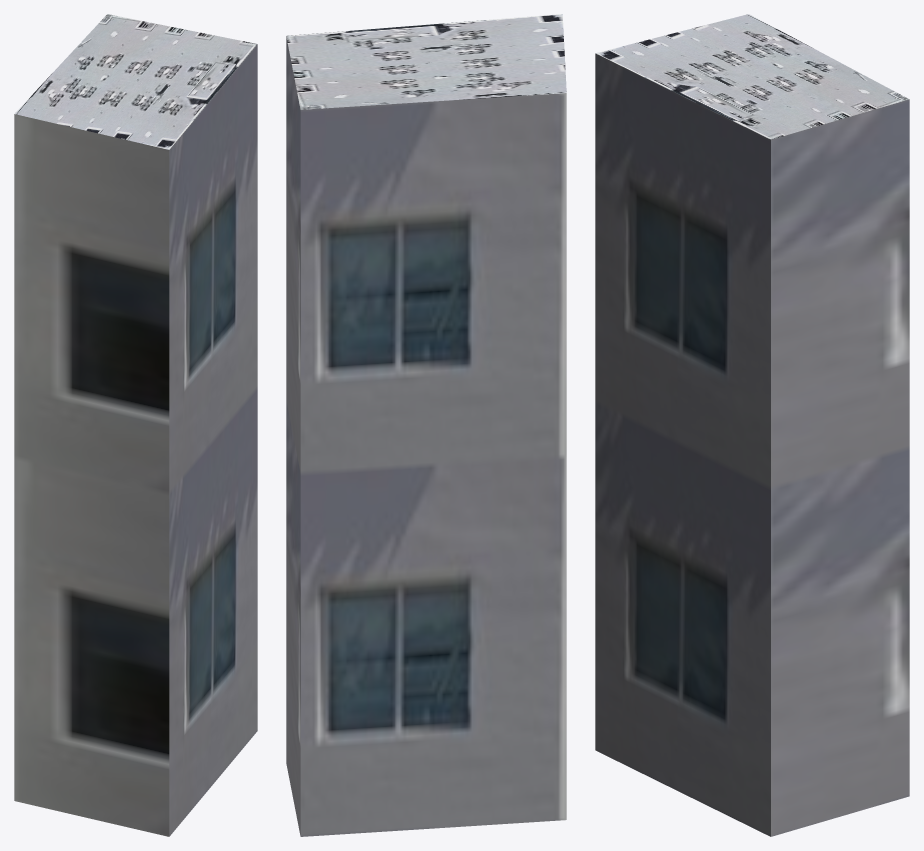
The model's file is ResTex__4755.fbx.
The picture shows the model from 3 angles, left to right: view 1: azimuth 30°, elevation 25°; view 2: azimuth 150°, elevation 25°; view 3: azimuth 270°, elevation 25°; orthographic projection. The views are drawn at different scales.
Parts seen in each view (by area): view 1: CityEngineMaterial_10_m, CityEngineMaterial_m; view 2: CityEngineMaterial_10_m, CityEngineMaterial_m; view 3: CityEngineMaterial_10_m, CityEngineMaterial_m.
Part boxes in pixels (<box>): CityEngineMaterial_10_m: <box>14,44,257,836</box>; CityEngineMaterial_m: <box>15,14,257,149</box>; CityEngineMaterial_10_m: <box>286,37,566,836</box>; CityEngineMaterial_m: <box>286,14,566,109</box>; CityEngineMaterial_10_m: <box>595,53,909,836</box>; CityEngineMaterial_m: <box>596,14,908,139</box>.
Size of the model in its own units: 2.32 by 6 by 2.45.
2 materials, 2 textured.
